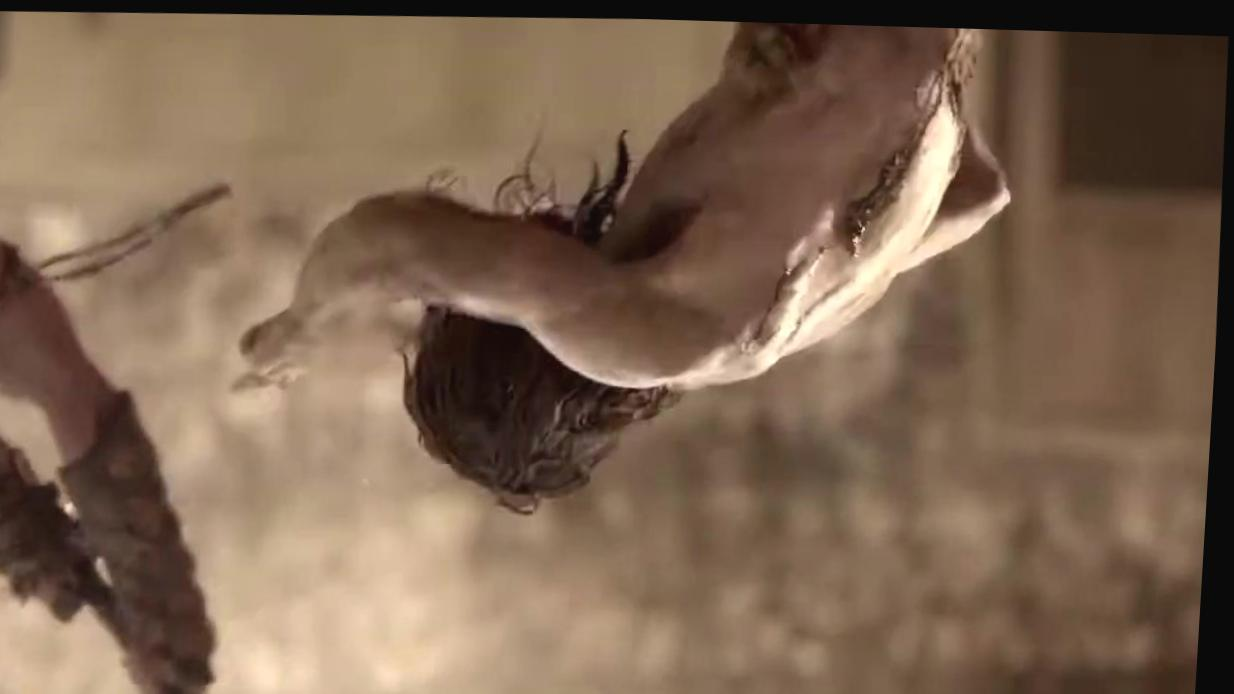Fire: (844, 22, 976, 254), (737, 233, 866, 356), (727, 17, 833, 96)
